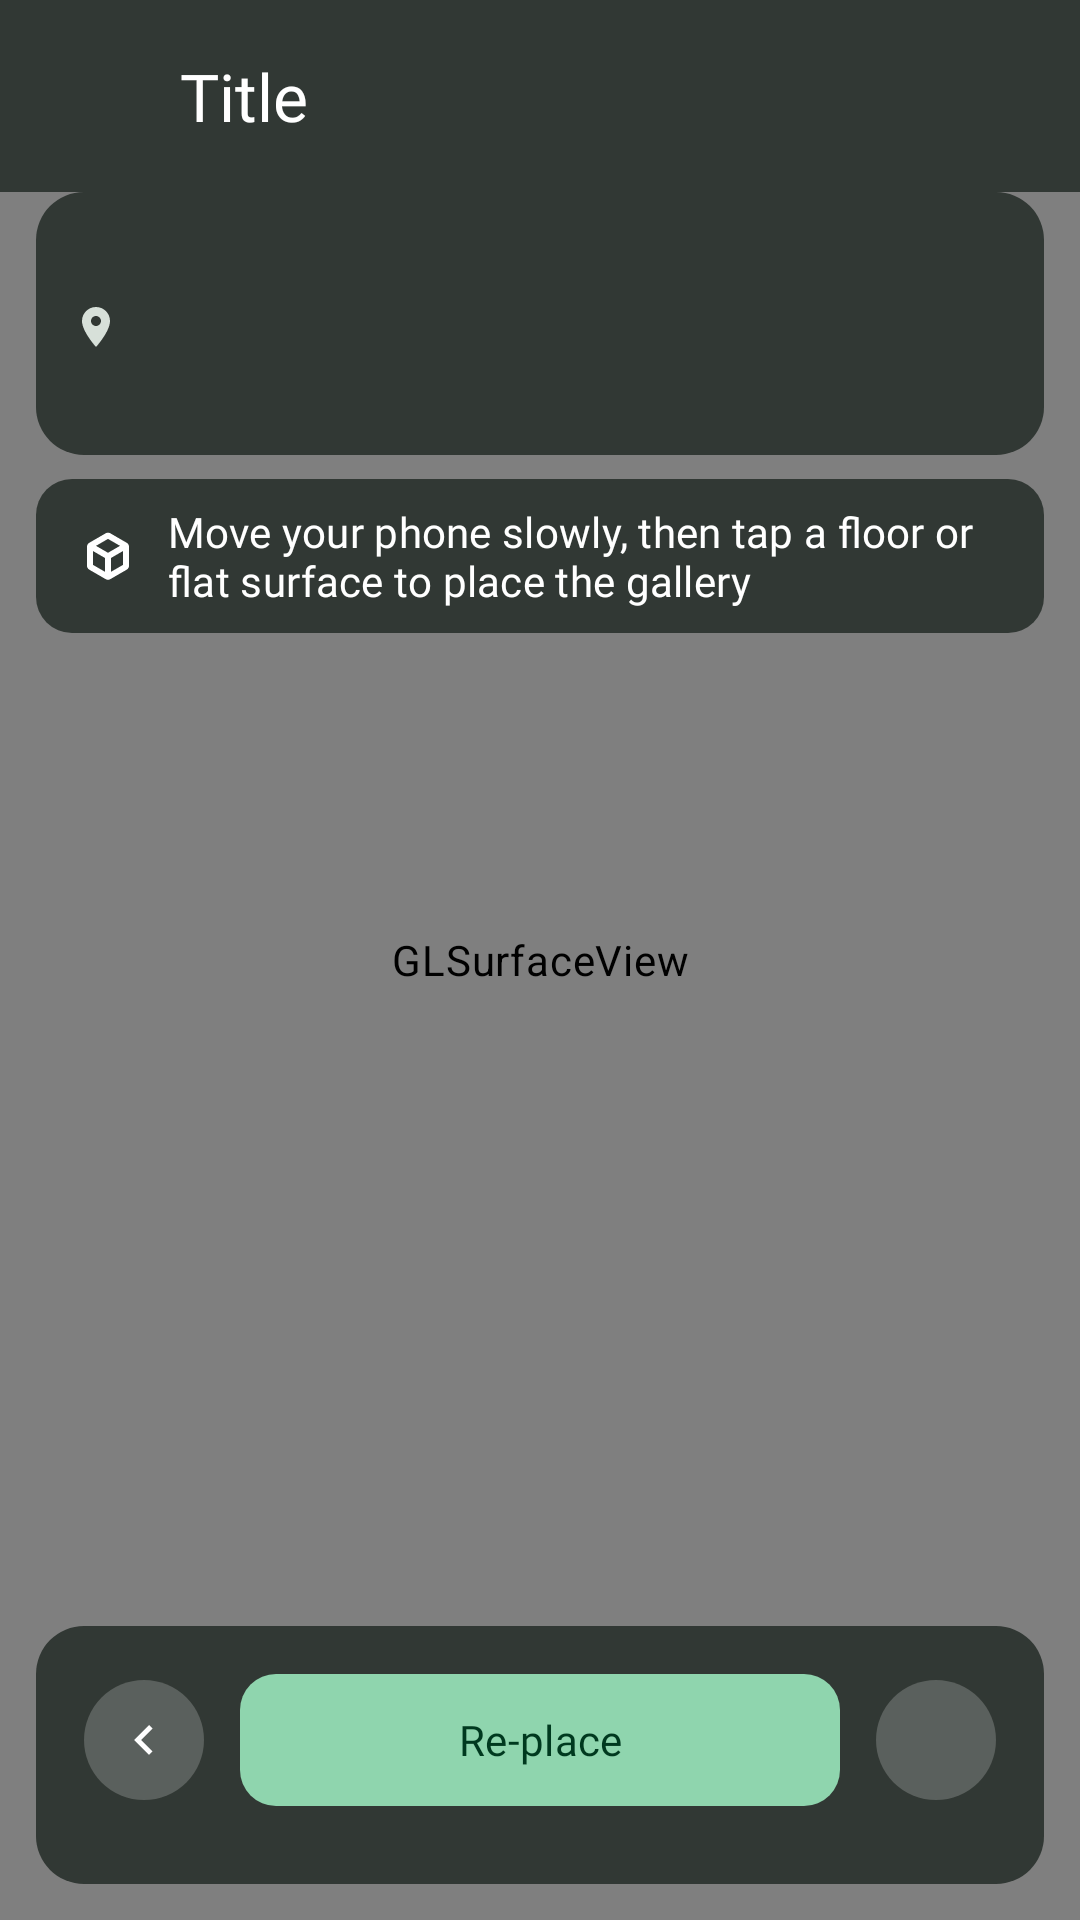

Locate icon controls on the screen. Image size 1080px×1920px, boxes as (x1, y1, x2, y2).
Previous photo: (84, 1680, 204, 1800)
